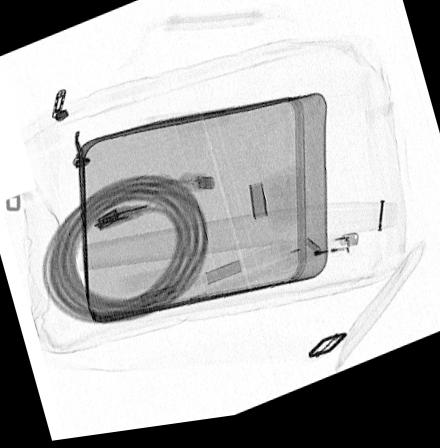Lighter: (277, 241, 360, 274)
